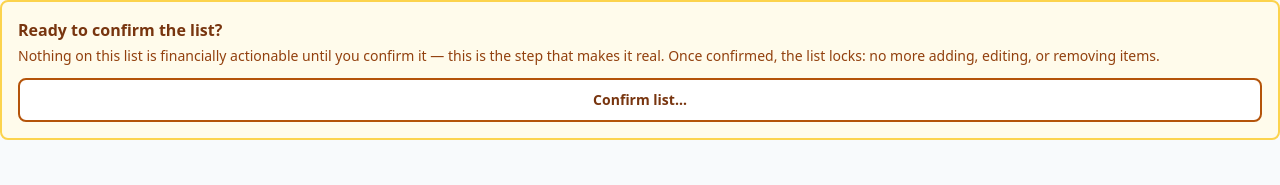
Test: ConfirmPoolAction › surfaces the 409 error clearly if confirm is attempted anyway and fails
This screenshot has width=1280, height=185.
Click the button "Confirm list…": (640, 100) [18,78,1262,122]
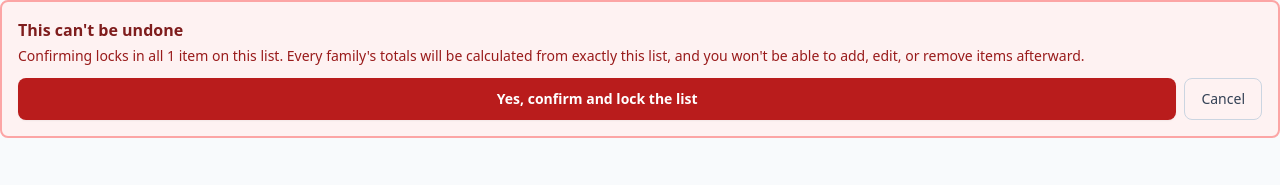
Click the button "Yes, confirm and lock the list": (597, 99) [18,78,1176,120]
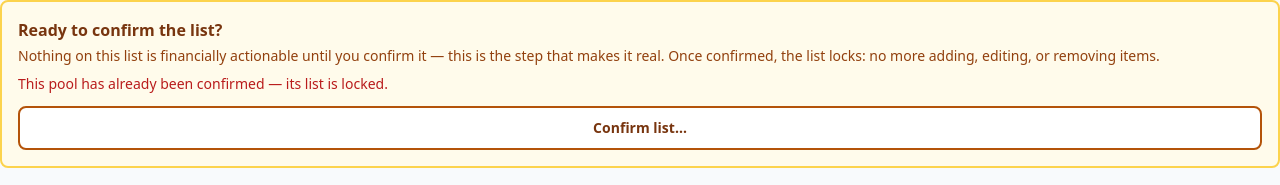
Now the text "This pool has already been confirmed — its list is locked." is shown, box [18,74,388,93]
